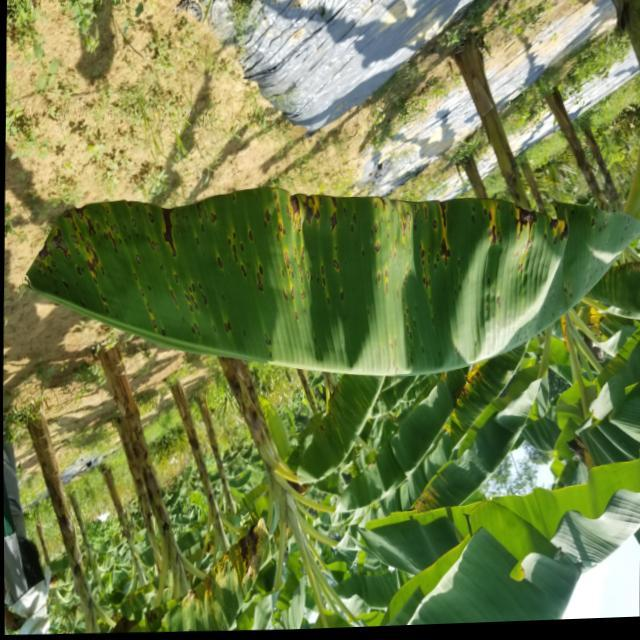Early_rust: (0, 158, 640, 437), (165, 508, 297, 604), (355, 459, 494, 546)
